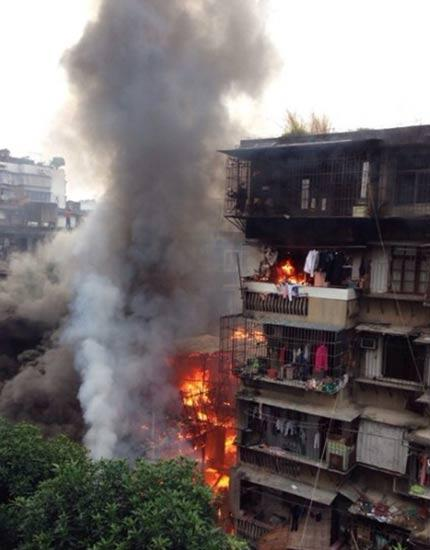fire: (178, 332, 269, 513)
smoke: (70, 5, 242, 320)
